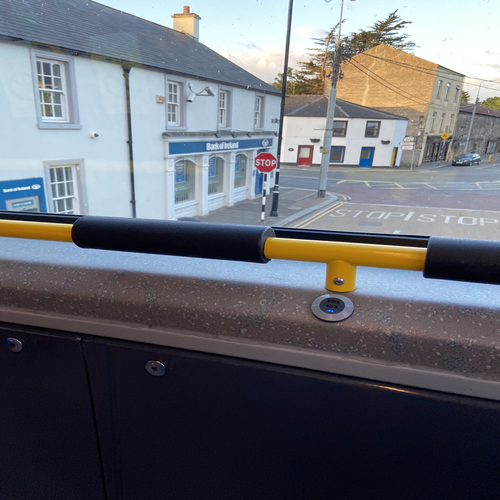Stop: (252, 150, 278, 173)
